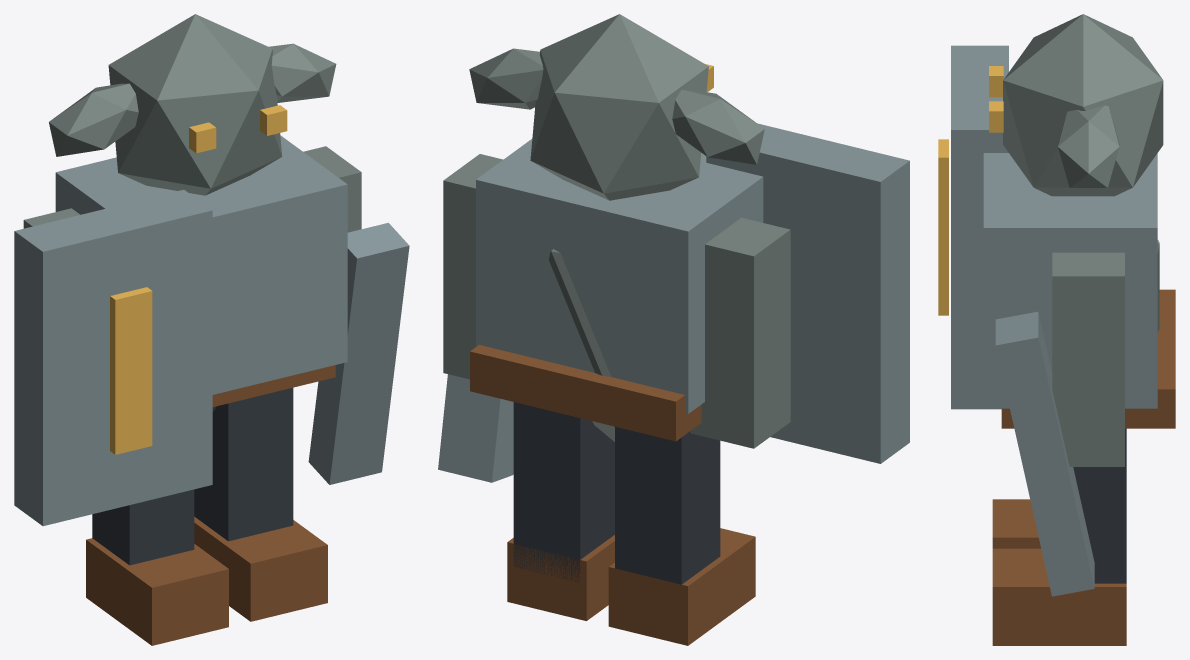
File: guardian.fbx
3 views of the same model, side by side, from view 1: azimuth 30°, elevation 25°; view 2: azimuth 150°, elevation 25°; view 3: azimuth 270°, elevation 25° (orthographic). The views are drawn at different scales.
Visible parts, largest first — view 1: Shield, Breastplate, Head.001, Blade.001, LegRMesh.001, Boot.002, Boot.003, ShieldRune, LegLMesh.001, Ear.002, Ear.003, ArmRMesh.001 (+3 smaller); view 2: Breastplate, Shield, Head.001, ArmLMesh.001, LegRMesh.001, LegLMesh.001, Belt.001, Boot.002, ArmRMesh.001, Boot.003, Blade.001, Ear.002 (+2 smaller); view 3: Breastplate, Head.001, ArmRMesh.001, Blade.001, Shield, Boot.003, LegRMesh.001, Ear.003, Belt.001, Boot.002, ShieldRune, Eye.003 (+1 smaller).
Part boxes in pixels (left/top/right/bottom): Shield: left=14, top=189, right=212, bottom=526; Breastplate: left=55, top=135, right=347, bottom=394; Head.001: left=108, top=14, right=282, bottom=195; Blade.001: left=308, top=222, right=409, bottom=484; LegRMesh.001: left=194, top=387, right=293, bottom=541; Boot.002: left=86, top=538, right=228, bottom=645; Boot.003: left=194, top=517, right=327, bottom=621; ShieldRune: left=110, top=287, right=152, bottom=454; LegLMesh.001: left=92, top=489, right=194, bottom=565; Ear.002: left=49, top=83, right=138, bottom=156; Ear.003: left=269, top=43, right=336, bottom=102; ArmRMesh.001: left=303, top=146, right=361, bottom=232; Breastplate: left=476, top=139, right=763, bottom=413; Shield: left=706, top=123, right=909, bottom=463; Head.001: left=530, top=14, right=708, bottom=200; ArmLMesh.001: left=690, top=217, right=790, bottom=448; LegRMesh.001: left=513, top=402, right=614, bottom=582; LegLMesh.001: left=615, top=426, right=720, bottom=584; Belt.001: left=470, top=345, right=701, bottom=441; Boot.002: left=608, top=528, right=755, bottom=645; ArmRMesh.001: left=443, top=154, right=503, bottom=379; Boot.003: left=507, top=535, right=614, bottom=620; Blade.001: left=438, top=374, right=513, bottom=482; Ear.002: left=672, top=89, right=764, bottom=164; Breastplate: left=983, top=153, right=1157, bottom=408; Head.001: left=1003, top=14, right=1163, bottom=196; ArmRMesh.001: left=1052, top=252, right=1124, bottom=466; Blade.001: left=995, top=311, right=1094, bottom=596; Shield: left=951, top=45, right=1008, bottom=409; Boot.003: left=992, top=548, right=1126, bottom=645; LegRMesh.001: left=1073, top=428, right=1126, bottom=583; Ear.003: left=1058, top=105, right=1119, bottom=187; Belt.001: left=1001, top=289, right=1175, bottom=428; Boot.002: left=992, top=499, right=1040, bottom=548; ShieldRune: left=938, top=139, right=948, bottom=315; Eye.003: left=989, top=101, right=1003, bottom=132.
Bounding box in the file's own units: 126 × 179 × 65.5.
